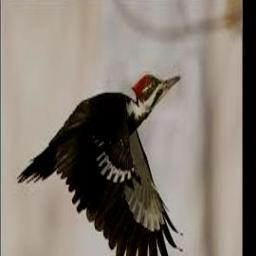Woodpecker: (17, 74, 184, 256)
